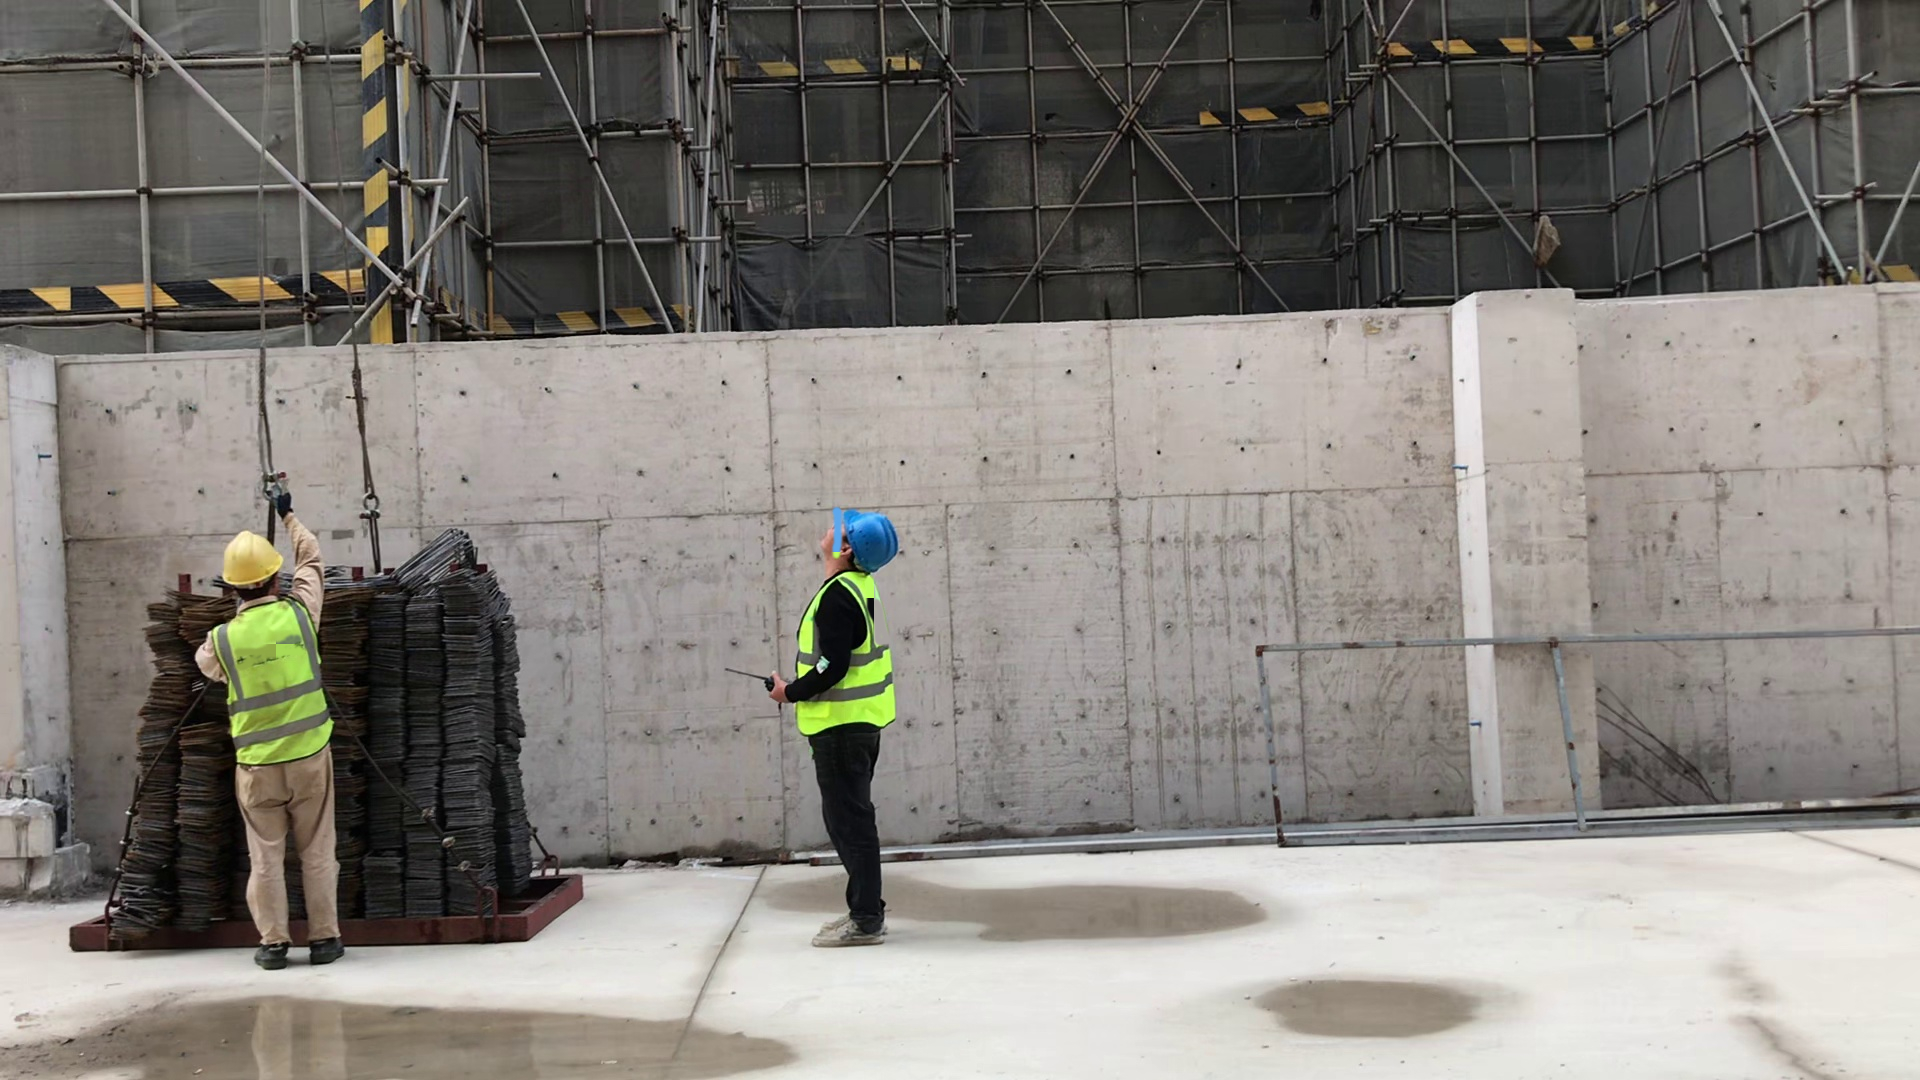helmet: (198, 522, 300, 597), (811, 506, 904, 571)
person: (196, 515, 357, 968), (761, 500, 905, 944)
vest: (198, 598, 345, 770), (777, 573, 915, 730)
